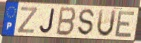B: (55, 6, 78, 37)
E: (114, 11, 137, 39)
J: (39, 8, 56, 35)
S: (77, 8, 96, 37)
U: (96, 9, 117, 39)
Z: (16, 6, 39, 35)
